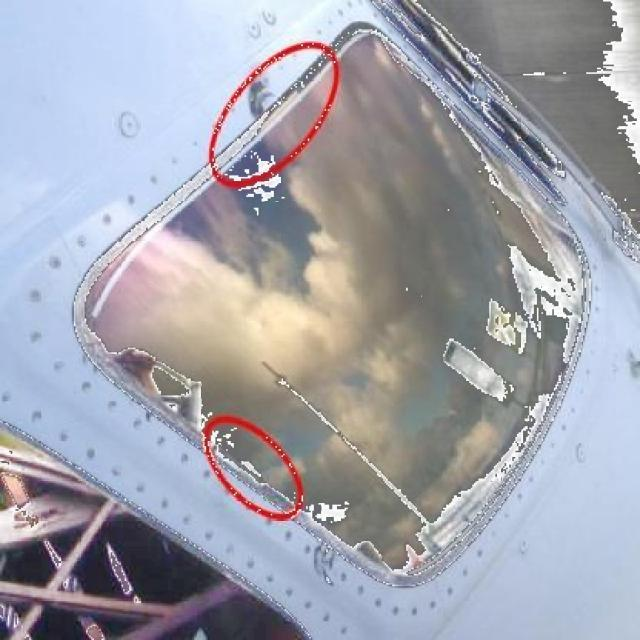crack: (312, 541, 334, 586)
